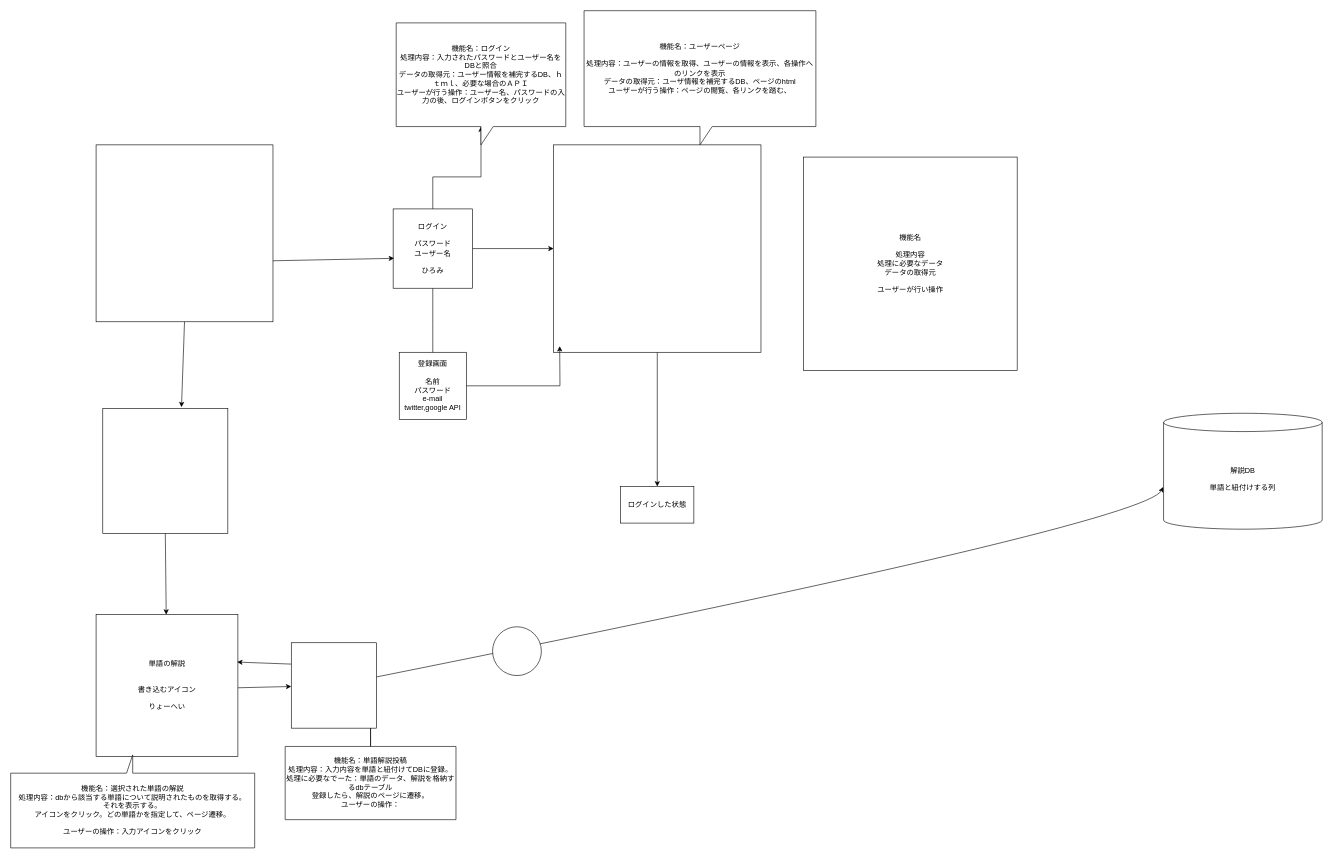
Image size: 1333x859. Some labels were removed from this diagram. Here are the shapes that lost their labels. From the top down, the centre of each, then its label:
the point at 184,233: ホーム画面 検索窓 単語がずらり ひらまつ
the point at 657,248: ユーザーページ ユーザー名 過去の投稿一覧 ログアウト s
the point at 165,470: 単語 解説 解説 解説 ひらまつ
the point at 516,651: 解説データ
the point at 334,685: 解説 投稿 りょーへい
